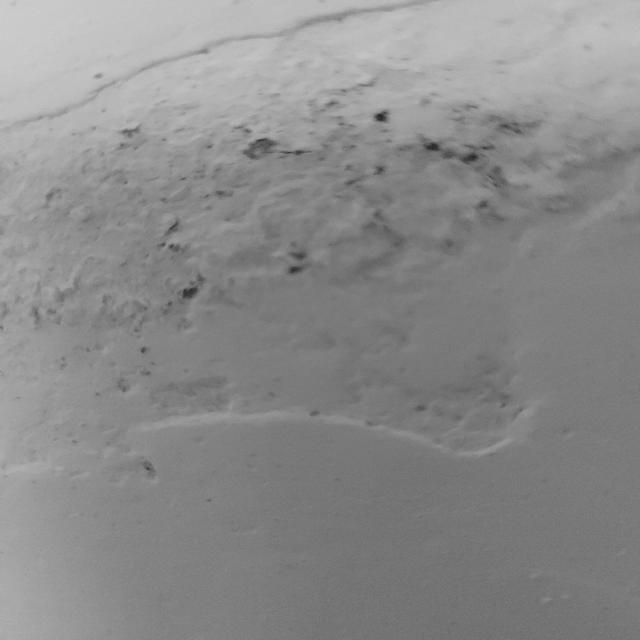rough and patchy surface: (0, 0, 640, 502), (508, 548, 580, 624)
